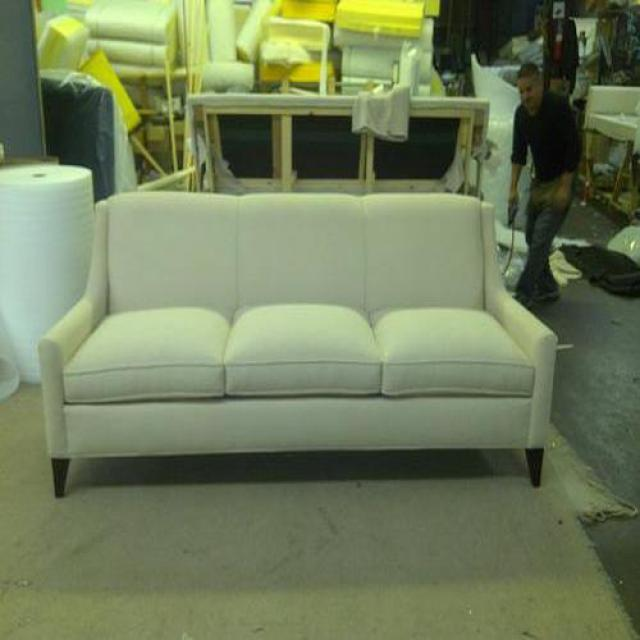sofa: (28, 191, 557, 495)
